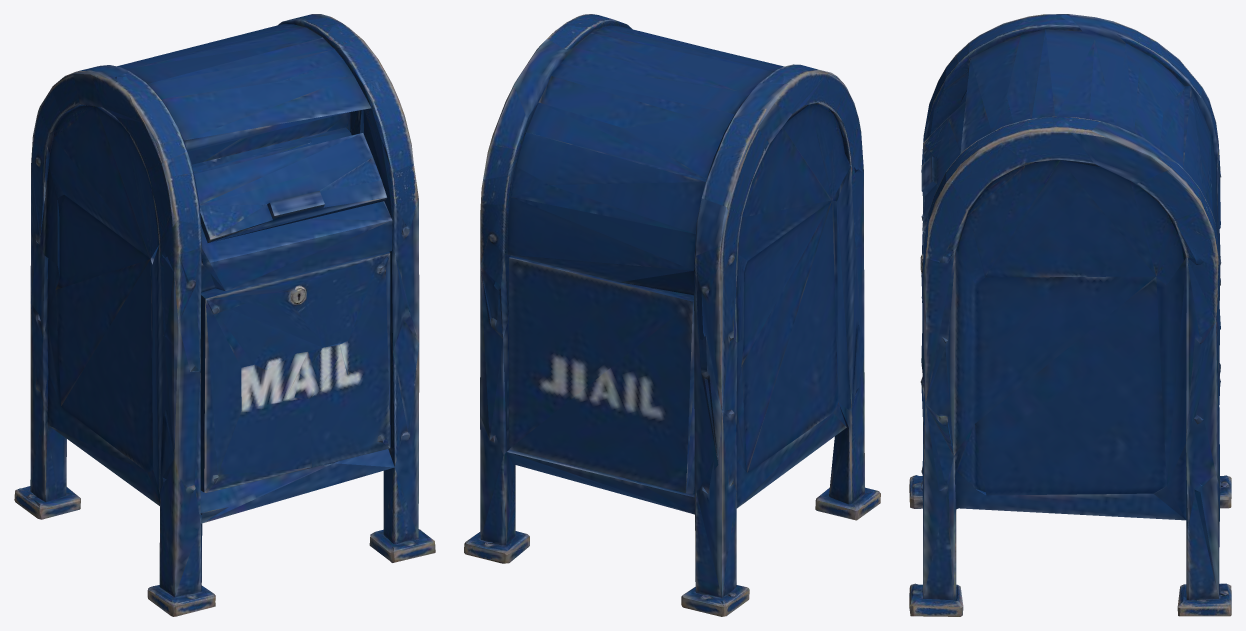
The model's file is mailbox.glb.
3 renders of one model, left to right at view 1: azimuth 30°, elevation 25°; view 2: azimuth 150°, elevation 25°; view 3: azimuth 270°, elevation 25°, orthographic. The views are drawn at different scales.
Bounding box in the file's own units: 1.1 × 1.9 × 1.15.
1 material, 1 textured.
